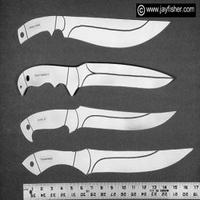knife: (10, 9, 178, 50), (16, 58, 182, 98), (20, 148, 200, 176), (5, 102, 179, 129)
